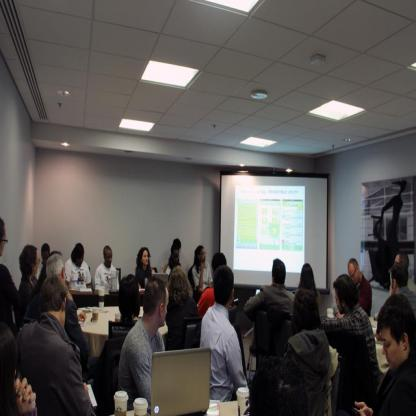board: (149, 339, 215, 412), (150, 272, 169, 288)
